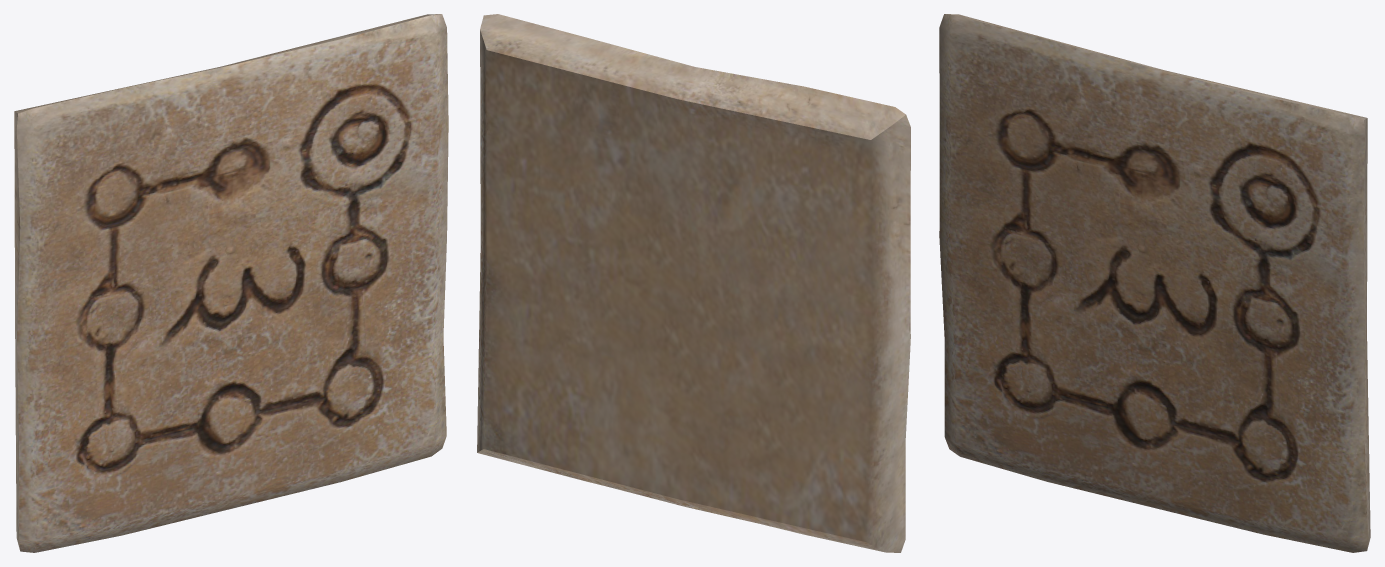
The model's file is side_front.obj.
3 views of the same model, side by side, from view 1: azimuth 30°, elevation 25°; view 2: azimuth 150°, elevation 25°; view 3: azimuth 330°, elevation 25° (orthographic).
Visible parts, largest first — view 1: front pCube1; view 2: front pCube1; view 3: front pCube1.
Boxes of the visible parts, <box> form: front pCube1: <box>14,14,448,552</box>; front pCube1: <box>477,14,910,552</box>; front pCube1: <box>939,14,1370,552</box>.
Size of the model in its own units: 4.87 by 4.85 by 0.4845.
